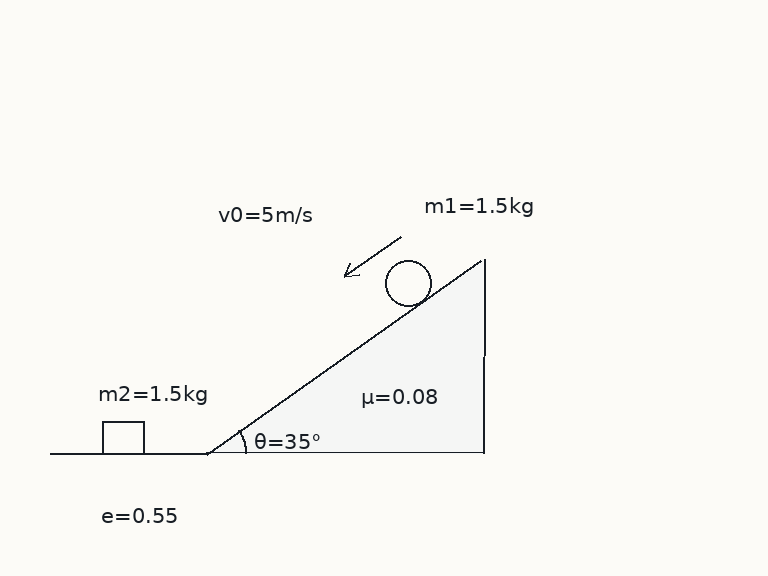ball: (383, 258, 433, 308)
block: (100, 420, 146, 455)
ramp: (204, 257, 485, 455)
